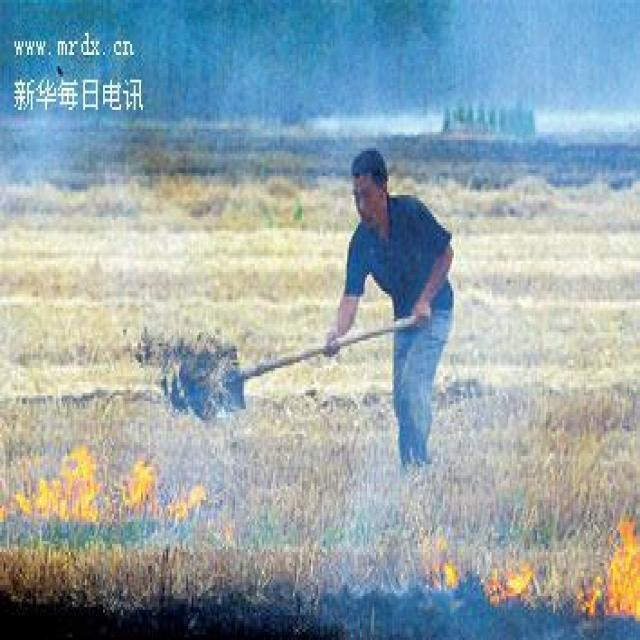fire: (0, 438, 210, 545), (574, 507, 636, 612), (481, 537, 536, 609), (414, 526, 463, 598), (220, 517, 234, 540)
